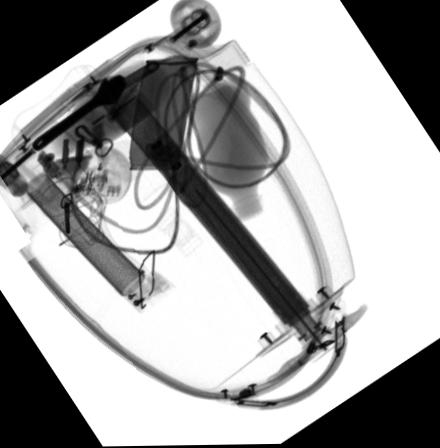Wrench: (30, 75, 126, 152)
